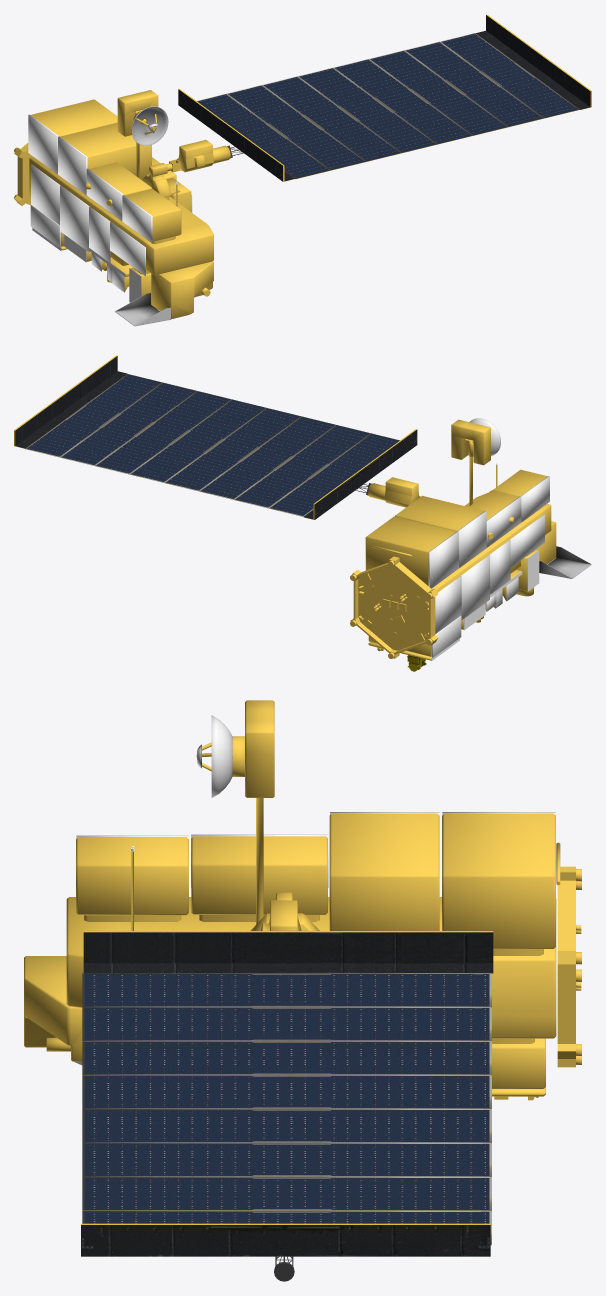
File: Terra.gltf
The picture shows the model from 3 angles, top to bottom: view 1: azimuth 30°, elevation 25°; view 2: azimuth 150°, elevation 25°; view 3: azimuth 270°, elevation 25°; orthographic projection. The views are drawn at different scales.
Visible parts, largest first — view 1: node_Solar_Panel_Assembly_-16308, node_BUS_-16290, node_Dish_Top_Base_-16294, node_Dish_Top_-16300, node_Solar_Panel_Base_-16296; view 2: node_Solar_Panel_Assembly_-16308, node_BUS_-16290, node_Dish_Top_Base_-16294; view 3: node_Solar_Panel_Assembly_-16308, node_BUS_-16290, node_Dish_Top_Base_-16294, node_Dish_Top_-16300.
Boxes of the visible parts, <box> form: node_Solar_Panel_Assembly_-16308: <box>166,14,591,181</box>; node_BUS_-16290: <box>14,99,213,326</box>; node_Dish_Top_Base_-16294: <box>117,90,158,178</box>; node_Dish_Top_-16300: <box>131,106,168,145</box>; node_Solar_Panel_Base_-16296: <box>142,163,180,199</box>; node_Solar_Panel_Assembly_-16308: <box>14,355,420,519</box>; node_BUS_-16290: <box>350,463,591,671</box>; node_Dish_Top_Base_-16294: <box>451,419,490,506</box>; node_Solar_Panel_Assembly_-16308: <box>81,900,493,1281</box>; node_BUS_-16290: <box>24,812,581,1100</box>; node_Dish_Top_Base_-16294: <box>245,700,274,924</box>; node_Dish_Top_-16300: <box>196,715,244,797</box>.
Size of the model in its own units: 13.13 by 5.18 by 6.86.
9 materials, 4 textured.
